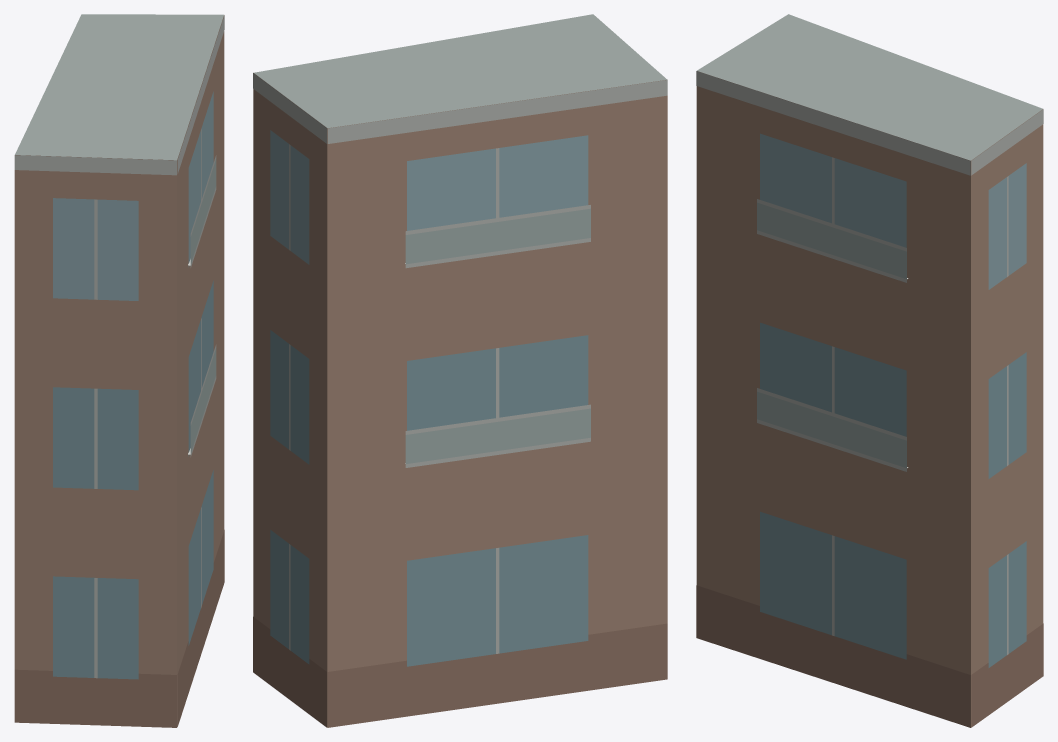
Rendered from survey-upis-32485309.glb.
3 views of the same model, side by side, from view 1: azimuth 30°, elevation 25°; view 2: azimuth 150°, elevation 25°; view 3: azimuth 270°, elevation 25° (orthographic). The views are drawn at different scales.
Visible parts, largest first — view 1: survey-upis-32485309.tmp; view 2: survey-upis-32485309.tmp; view 3: survey-upis-32485309.tmp.
Boxes of the visible parts, left/top/right/bottom form: survey-upis-32485309.tmp: left=14, top=14, right=224, bottom=727; survey-upis-32485309.tmp: left=253, top=14, right=667, bottom=727; survey-upis-32485309.tmp: left=696, top=14, right=1043, bottom=727.
Bounding box in the file's own units: 5.08 × 9.15 × 5.08.
